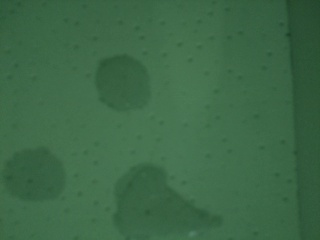Water_detected: (127, 175, 186, 217), (100, 61, 137, 103), (19, 151, 58, 190)
